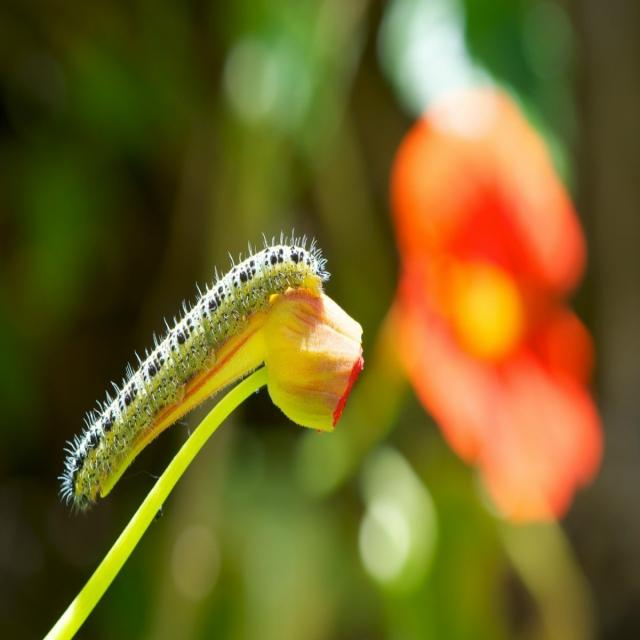worm: (58, 227, 364, 520)
